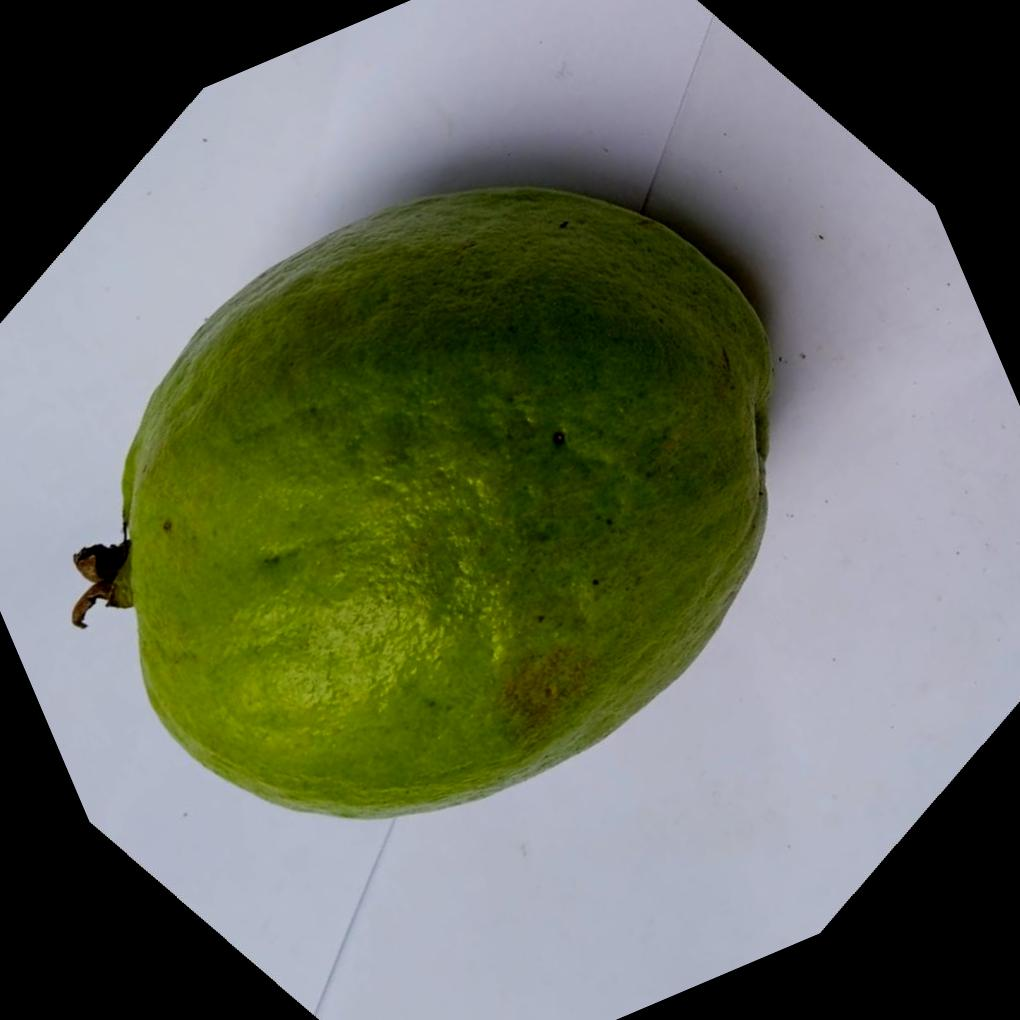FreshGuava: (74, 179, 770, 818)
